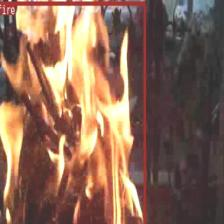fire: (0, 0, 145, 224)
